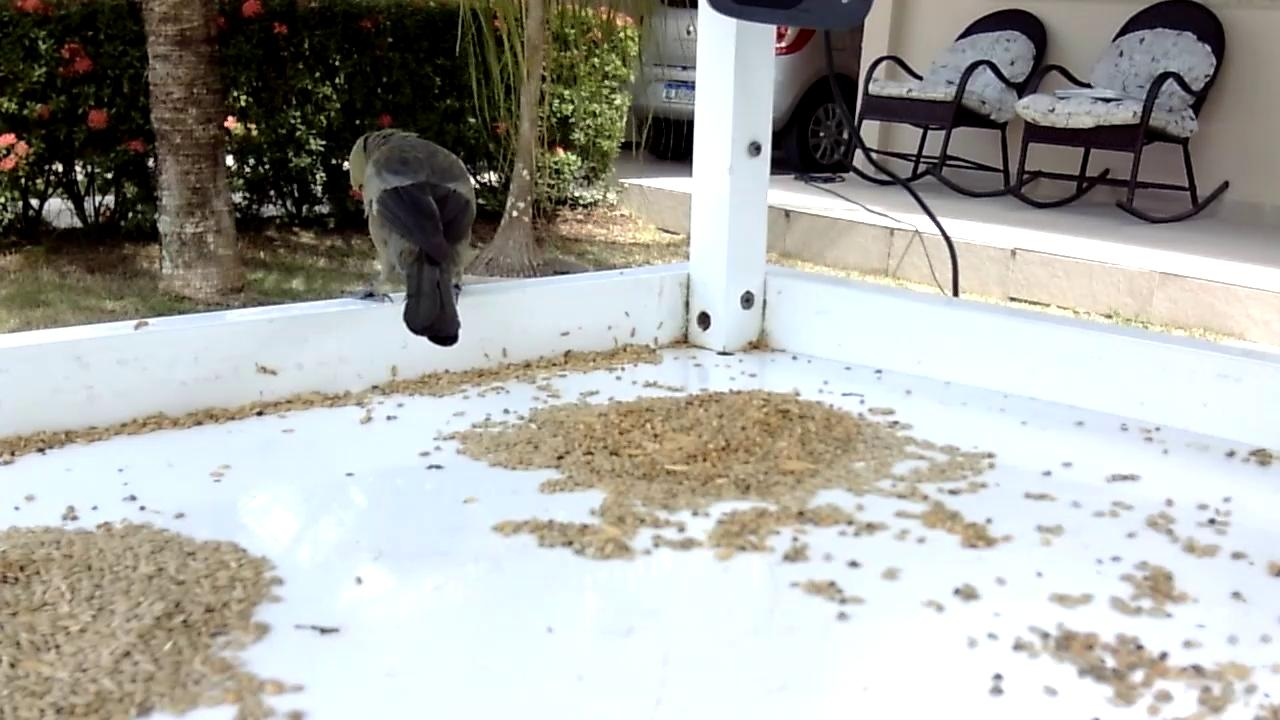sanhaco_do_coqueiro: (349, 130, 477, 348)
